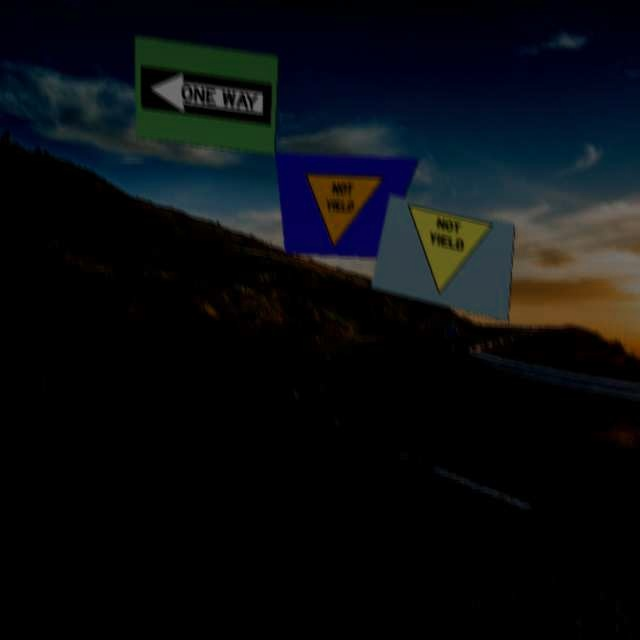NOT_YIELD: (394, 204, 502, 307), (303, 174, 386, 250)
ONE_WAY_ left: (136, 67, 278, 126)
